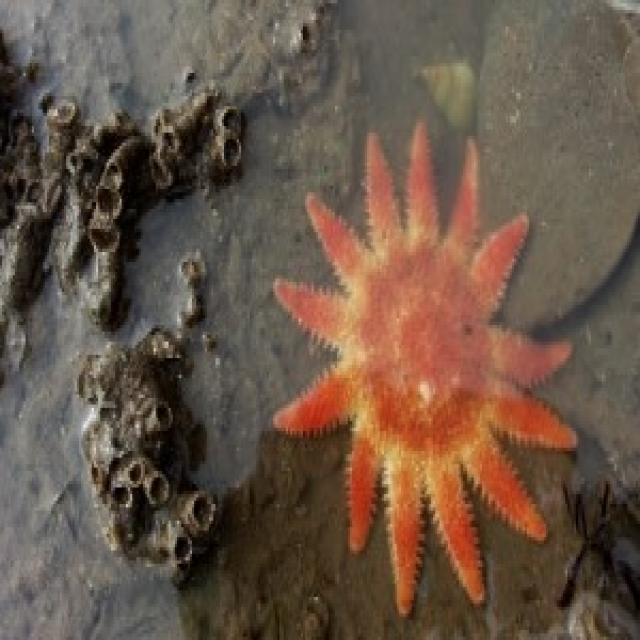Starfish: (261, 109, 589, 626)
